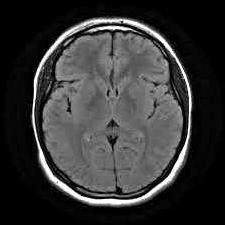Normal_Brain: (18, 1, 225, 225)
